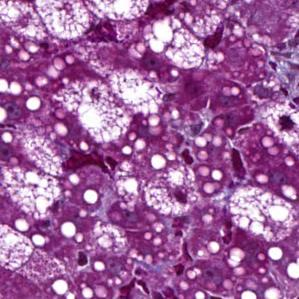ballooning: (48, 79, 138, 147), (224, 183, 295, 243), (34, 5, 97, 43)
